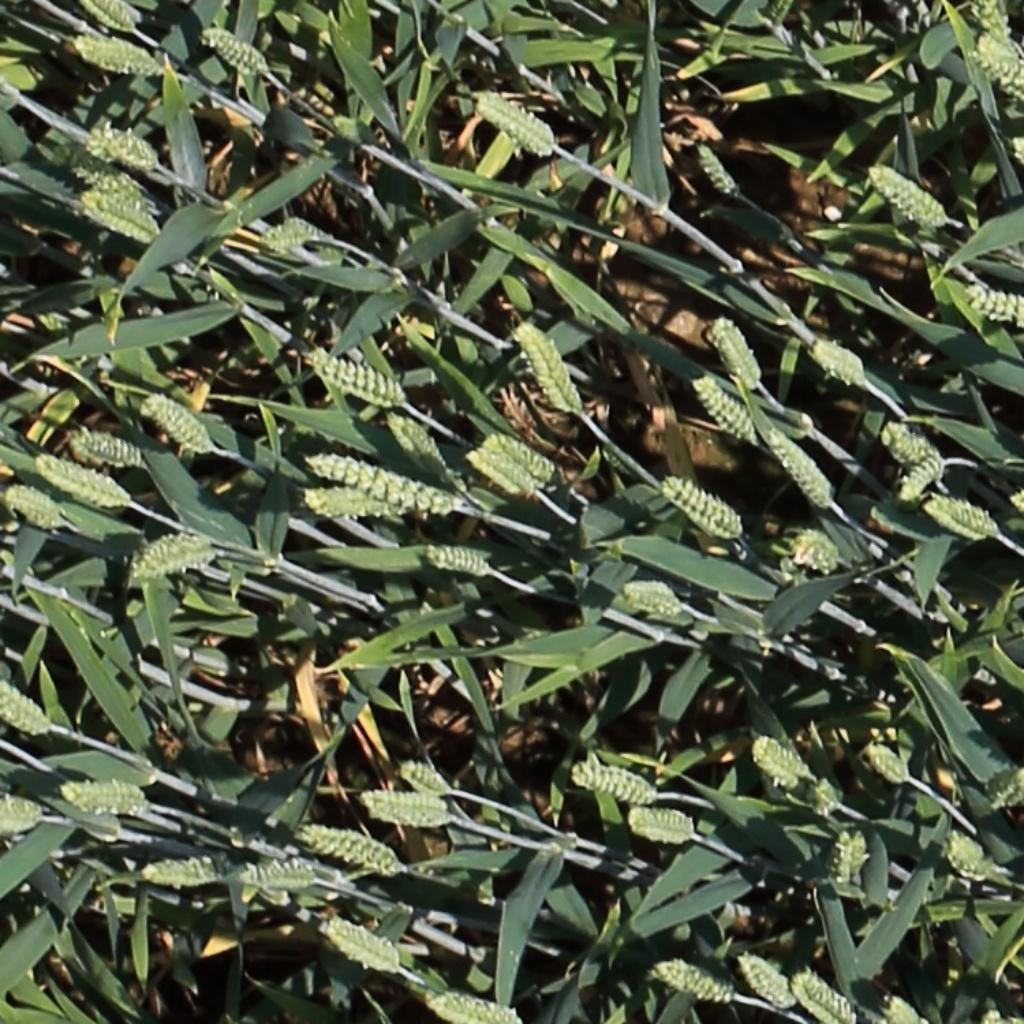0-0: (309, 454, 456, 512), (514, 314, 585, 417), (767, 423, 838, 510), (46, 140, 140, 204), (305, 346, 406, 405), (932, 820, 1000, 896), (32, 454, 129, 507), (869, 161, 948, 225), (693, 372, 761, 446), (662, 476, 744, 537), (709, 309, 767, 391), (300, 828, 401, 875), (477, 92, 555, 150), (128, 530, 218, 579), (143, 391, 214, 453), (385, 406, 446, 472), (324, 918, 400, 970), (737, 950, 798, 1011), (80, 192, 159, 238), (692, 131, 745, 199), (61, 770, 148, 811), (305, 483, 394, 523), (656, 961, 737, 1004), (974, 35, 1022, 106), (570, 767, 659, 805), (72, 38, 161, 75), (237, 850, 326, 887), (794, 970, 857, 1022), (895, 449, 947, 512), (488, 434, 559, 480), (0, 666, 47, 734), (469, 447, 537, 494), (927, 498, 1003, 539), (203, 27, 270, 73), (252, 214, 312, 263), (84, 126, 159, 165), (884, 421, 944, 469), (427, 993, 518, 1024), (755, 740, 815, 786), (974, 758, 1024, 810), (68, 432, 144, 466), (972, 1, 1018, 57), (813, 339, 871, 383), (2, 487, 62, 527), (361, 797, 449, 824), (283, 214, 338, 253), (625, 584, 685, 619), (791, 532, 842, 573), (626, 813, 697, 842), (866, 744, 914, 786), (400, 761, 453, 798), (965, 285, 1024, 316), (425, 547, 491, 574), (141, 866, 229, 886), (834, 826, 858, 899), (88, 0, 137, 31), (812, 774, 843, 823), (875, 989, 916, 1024), (763, 0, 797, 31), (0, 811, 40, 831)
